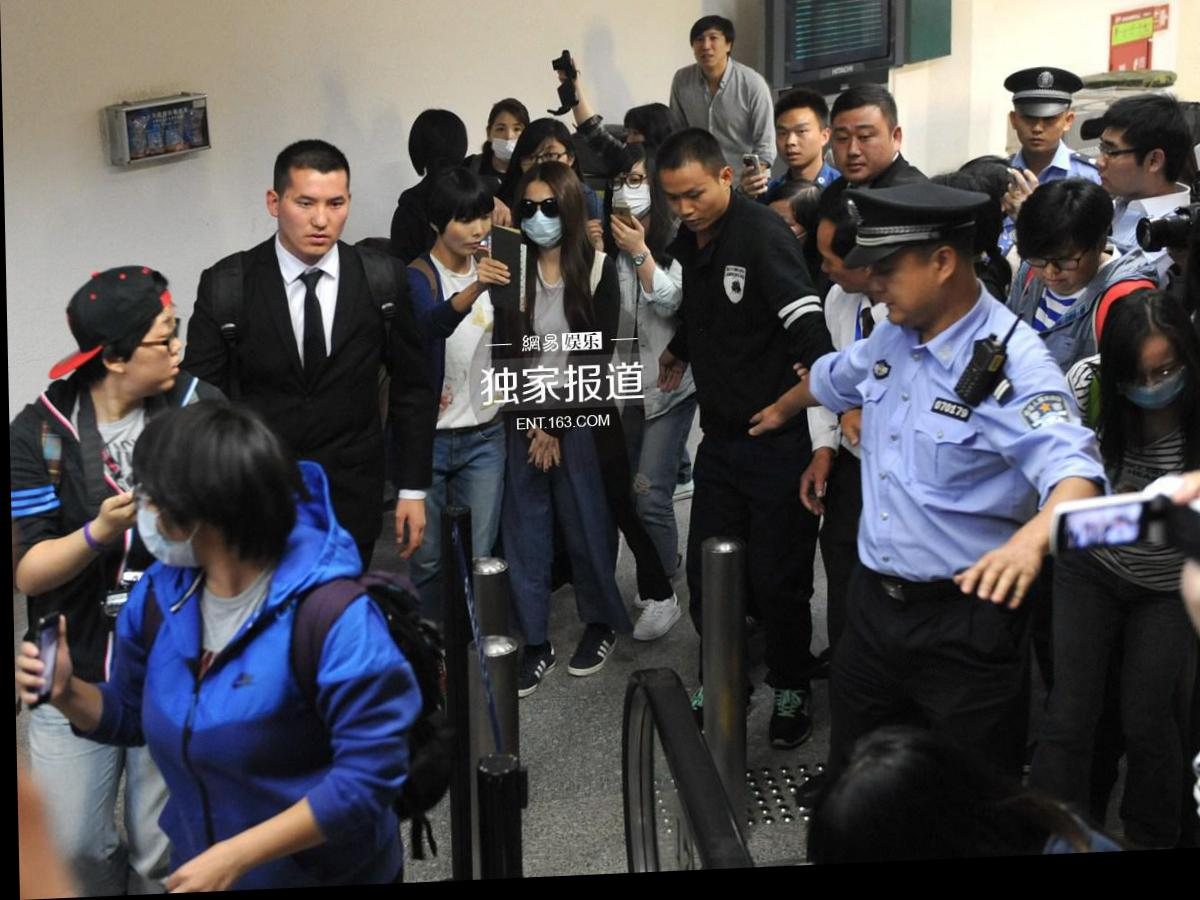NONE: (278, 189, 349, 258), (870, 268, 937, 341), (122, 315, 183, 395), (1030, 245, 1088, 306), (1094, 143, 1149, 207), (813, 239, 863, 309), (665, 186, 722, 242), (831, 127, 884, 187), (518, 147, 569, 199), (444, 214, 490, 263), (1017, 119, 1062, 165), (776, 129, 817, 175), (697, 40, 726, 72)
OK: (134, 489, 219, 577), (1117, 356, 1184, 422), (517, 192, 566, 256), (606, 166, 660, 221)
WRONG: (485, 121, 525, 161)
